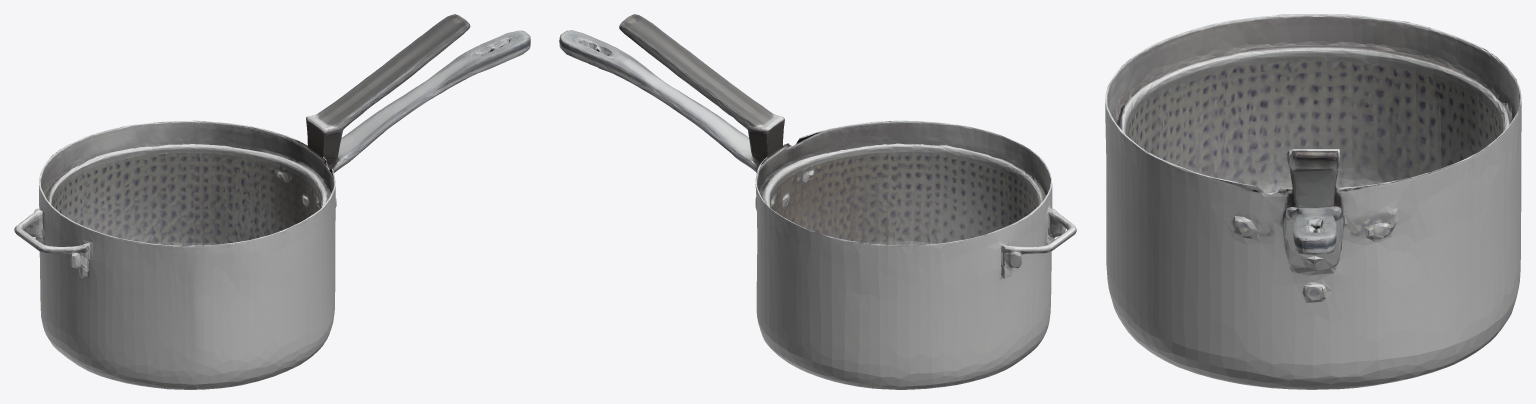
Rendered from fryerpot.glb.
The picture shows the model from 3 angles, left to right: view 1: azimuth 30°, elevation 25°; view 2: azimuth 150°, elevation 25°; view 3: azimuth 270°, elevation 25°; orthographic projection. The views are drawn at different scales.
Parts seen in each view (by area): view 1: world; view 2: world; view 3: world.
Boxes of the visible parts, x1=… form: world: x1=14, y1=14, x2=530, y2=389; world: x1=559, y1=14, x2=1076, y2=389; world: x1=1105, y1=14, x2=1521, y2=389.
Size of the model in its own units: 1 by 0.4704 by 0.5143.
Materials: 1 (1 with a texture image).
